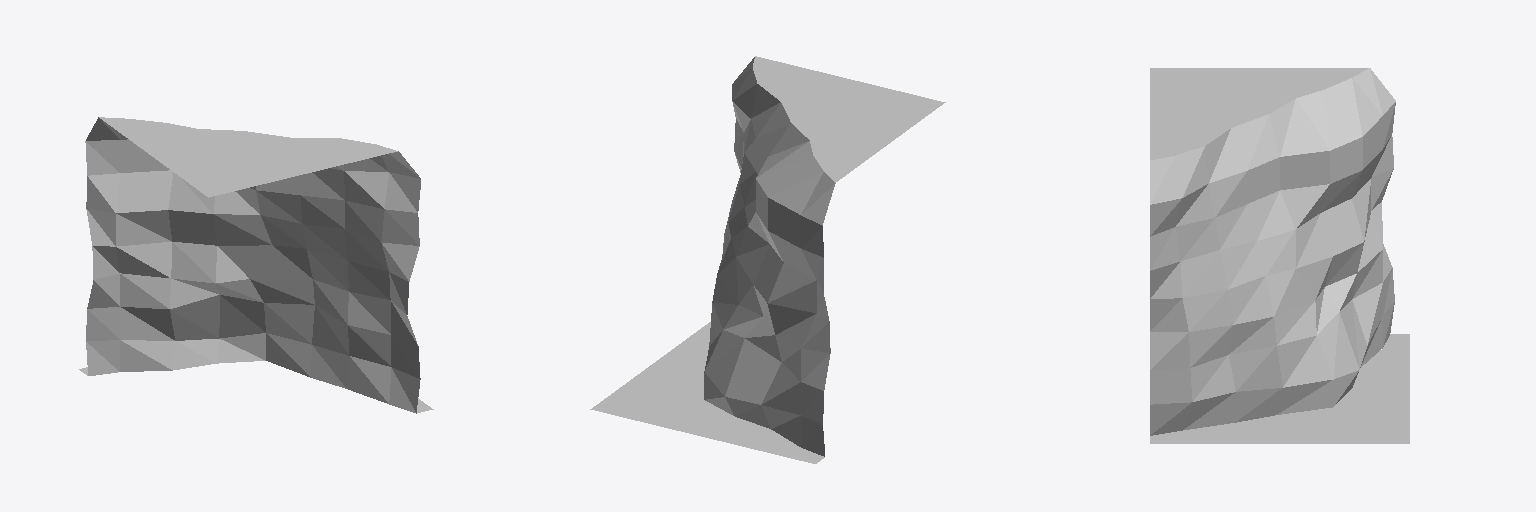
The model's file is dirt_two_sided_corner.obj.
3 views of the same model, side by side, from view 1: azimuth 30°, elevation 25°; view 2: azimuth 150°, elevation 25°; view 3: azimuth 270°, elevation 25° (orthographic).
Visible parts, largest first — view 1: dirt_two_sided_corner.obj; view 2: dirt_two_sided_corner.obj; view 3: dirt_two_sided_corner.obj.
Part boxes in pixels (bbox=[...]): dirt_two_sided_corner.obj: bbox=[79, 117, 433, 413]; dirt_two_sided_corner.obj: bbox=[590, 56, 945, 463]; dirt_two_sided_corner.obj: bbox=[1150, 68, 1409, 443].
Bounding box in the file's own units: 2.5 × 2.83 × 2.5.